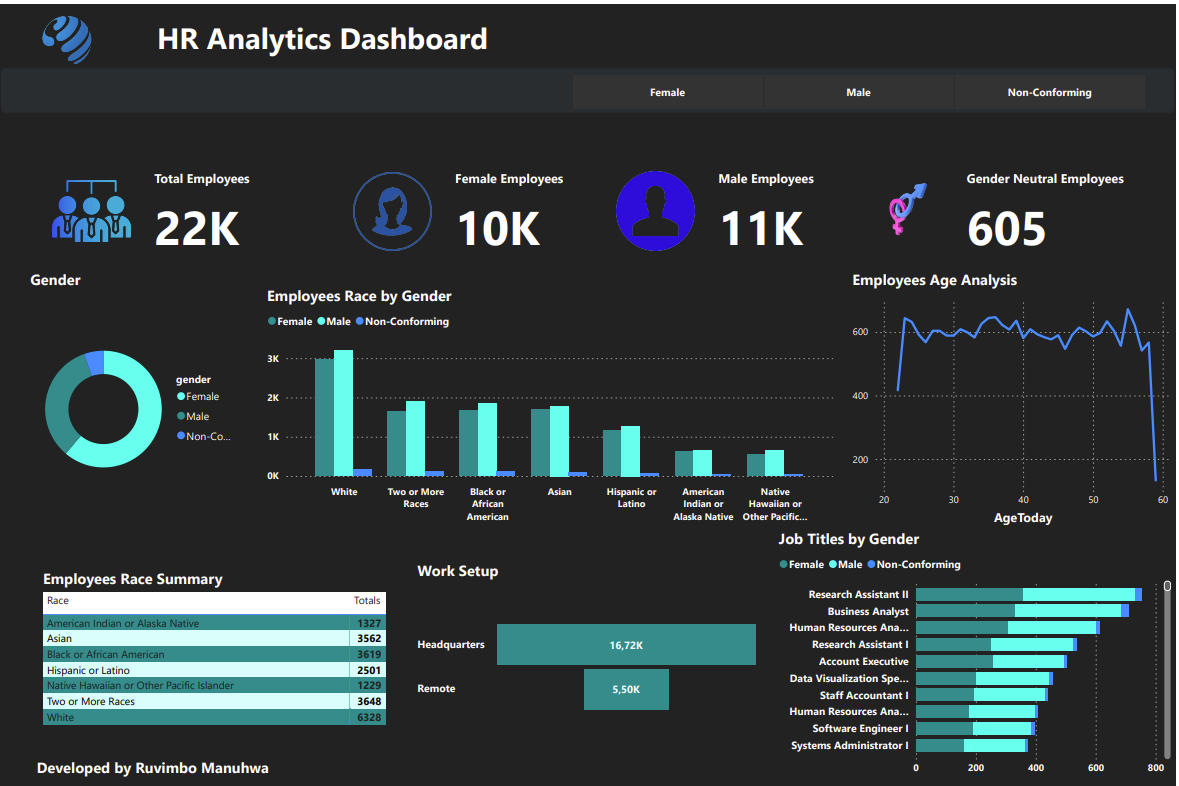

The dashboard page shown, as its layout file describes it:
{"tool":"powerbi","page":{"name":"Page 1","canvas":[1500,1000],"ordinal":0},"visuals":[{"type":"textbox","title":"HR Analytics Dashboard","box":[49,17.6,723.5,58.8],"z":0},{"type":"shape","box":[0,82.4,1498,56.9],"z":1000},{"type":"donutChart","title":"Gender","fields":{"Y":["Human Resources.genderupdated"],"Category":["Human Resources.gender"]},"box":[33.3,339.2,276.5,329.4],"z":2000},{"type":"cardVisual","fields":{"Data":["Human Resources.EmployeeCount"]},"box":[49,170.6,317.6,168.6],"z":3000},{"type":"image","box":[33.3,0,102,92.2],"z":4000},{"type":"cardVisual","fields":{"Data":["GenderTotals.FemaleEmployeeCount"]},"box":[433.3,170.6,317.6,168.6],"z":5000},{"type":"cardVisual","fields":{"Data":["GenderTotals.MaleEmployeeCount"]},"box":[768.6,170.6,317.6,168.6],"z":6000},{"type":"cardVisual","fields":{"Data":["GenderTotals.nononformingEmployeeCount"]},"box":[1086.3,170.6,398,168.6],"z":7000},{"type":"barChart","title":"Job Titles by Gender","fields":{"Category":["Human Resources.jobtitle"],"Series":["Human Resources.gender"],"Y":["Human Resources.jobtitle"]},"box":[988.2,668.6,509.8,323.5],"z":8000},{"type":"pivotTable","title":"Employees Race Summary","fields":{"Rows":["RaceSummary.race"],"Values":["RaceSummary.Totals"]},"box":[49,719.6,452.9,223.5],"z":9000},{"type":"clusteredColumnChart","title":"Employees Race by Gender","fields":{"Category":["Human Resources.race"],"Y":["Human Resources.race"],"Series":["Human Resources.gender"]},"box":[335.3,358.8,731.4,309.8],"z":10000},{"type":"lineChart","title":"Employees Age Analysis","fields":{"Category":["Human Resources.AgeToday"],"Y":["Human Resources.AgeToday"]},"box":[1082.4,339.2,415.7,329.4],"z":11000},{"type":"slicer","fields":{"Values":["Human Resources.gender"]},"box":[703.9,84.3,780.4,56.9],"z":12000},{"type":"funnel","title":"Work Setup","fields":{"Category":["Human Resources.location"],"Y":["Human Resources.location"]},"box":[527.5,709.8,445.1,243.1],"z":13000},{"type":"textbox","title":"Developed by Ruvimbo Manuhwa","box":[41.2,960.8,333.3,31.4],"z":14000}]}

Visuals, with their boxes in screenshot pixels (x1, y1, x2, y2), scaled from the page's 1500x1000 canvas onto the 1179x786 screenshot:
"HR Analytics Dashboard" textbox: locate(39, 14, 607, 60)
shape: locate(0, 65, 1177, 109)
"Gender" donutChart: locate(26, 267, 244, 526)
cardVisual - Human Resources.EmployeeCount: locate(39, 134, 288, 267)
image: locate(26, 0, 106, 72)
cardVisual - GenderTotals.FemaleEmployeeCount: locate(341, 134, 590, 267)
cardVisual - GenderTotals.MaleEmployeeCount: locate(604, 134, 854, 267)
cardVisual - GenderTotals.nononformingEmployeeCount: locate(854, 134, 1167, 267)
"Job Titles by Gender" barChart: locate(777, 526, 1177, 780)
"Employees Race Summary" pivotTable: locate(39, 566, 394, 741)
"Employees Race by Gender" clusteredColumnChart: locate(264, 282, 838, 526)
"Employees Age Analysis" lineChart: locate(851, 267, 1178, 526)
slicer - Human Resources.gender: locate(553, 66, 1167, 111)
"Work Setup" funnel: locate(415, 558, 764, 749)
"Developed by Ruvimbo Manuhwa" textbox: locate(32, 755, 294, 780)
